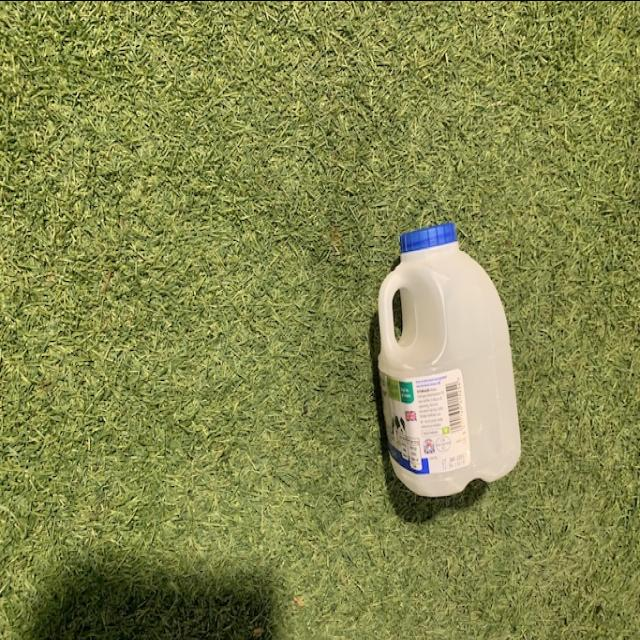HDPEM: (369, 215, 535, 503)
